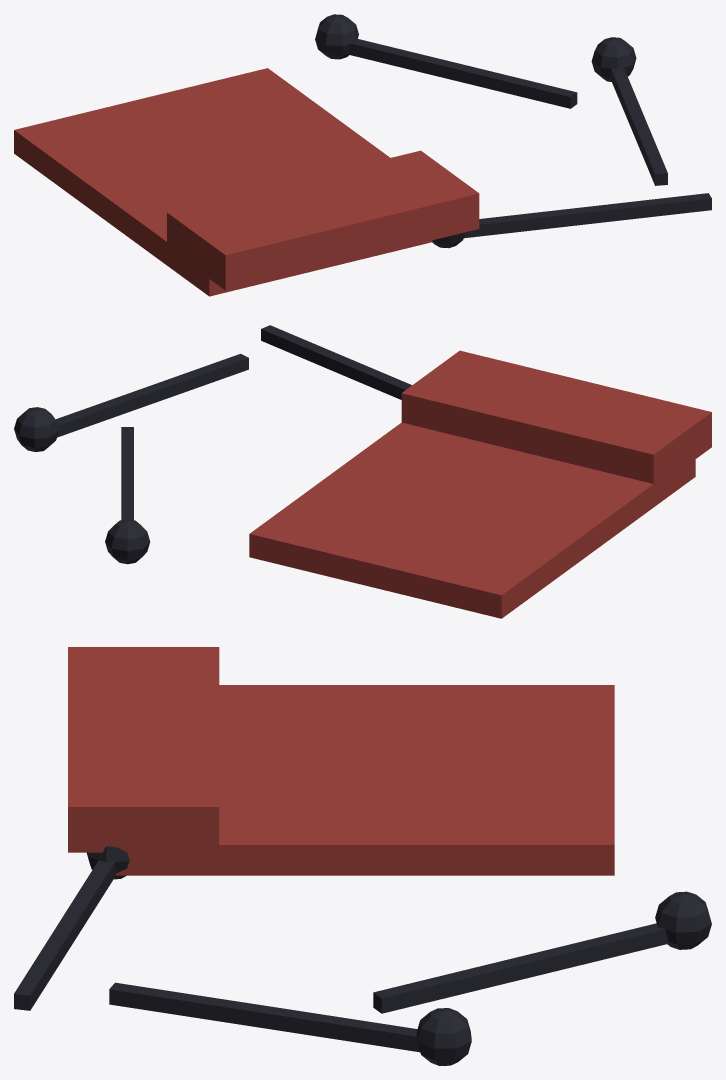
The model's file is Prop_Matchbook.fbx.
3 views of the same model, one above another, from view 1: azimuth 30°, elevation 25°; view 2: azimuth 150°, elevation 25°; view 3: azimuth 270°, elevation 25° (orthographic). The views are drawn at different scales.
Visible parts, largest first — view 1: Matchbook_Cover, Matchbook_SpentMatches; view 2: Matchbook_Cover, Matchbook_SpentMatches; view 3: Matchbook_Cover, Matchbook_SpentMatches.
Boxes of the visible parts, x1=… form: Matchbook_Cover: x1=14, y1=68, x2=479, y2=296; Matchbook_SpentMatches: x1=315, y1=14, x2=711, y2=248; Matchbook_Cover: x1=249, y1=350, x2=711, y2=618; Matchbook_SpentMatches: x1=14, y1=325, x2=411, y2=564; Matchbook_Cover: x1=68, y1=647, x2=614, y2=875; Matchbook_SpentMatches: x1=14, y1=846, x2=711, y2=1065.
Size of the model in its own units: 0.098 by 0.0105 by 0.083.
